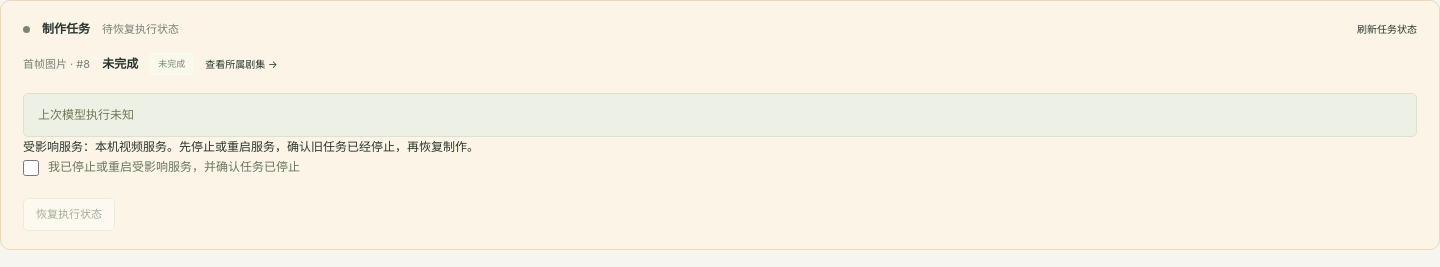
it: 明确恢复只提交一次，后续轮询不会重复POST
Click the checkbox labelled "我已停止或重启受影响服务，并确认任务已停止" at {"x": 31, "y": 168}, box top-left (23, 160), bottom-right (39, 176)
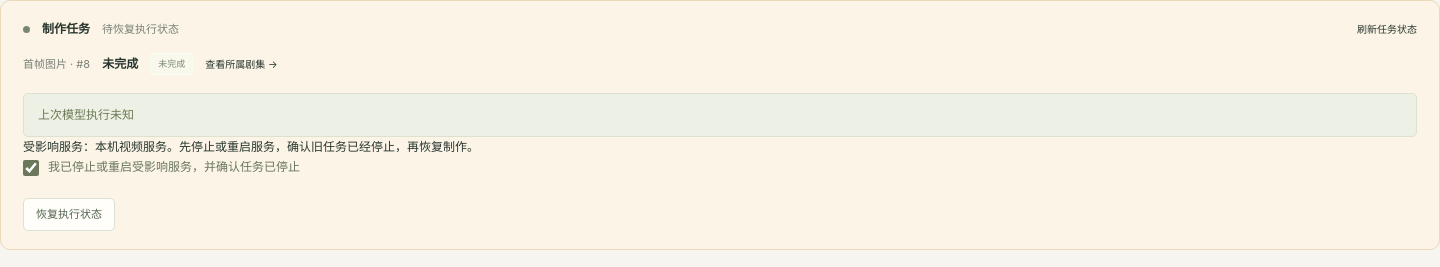
Click the button "恢复执行状态" at {"x": 69, "y": 214}, box top-left (23, 198), bottom-right (115, 231)
Wait 10000 ms
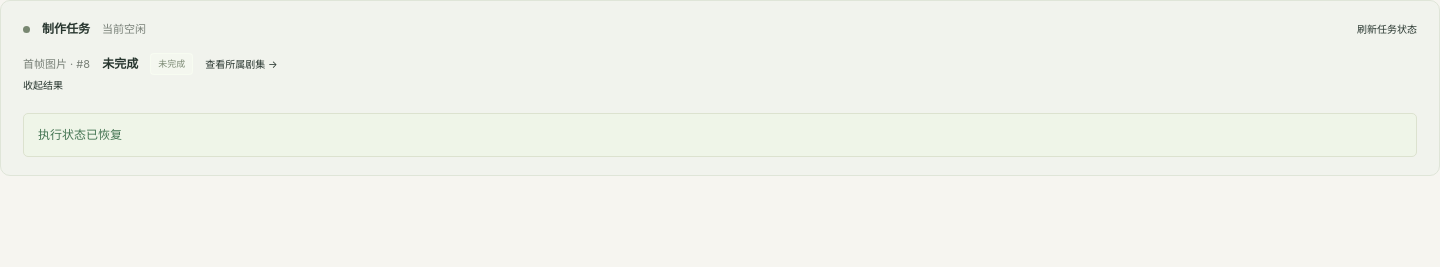
Result: the message reads "执行状态已恢复" at top-left (38, 127), bottom-right (122, 142)
